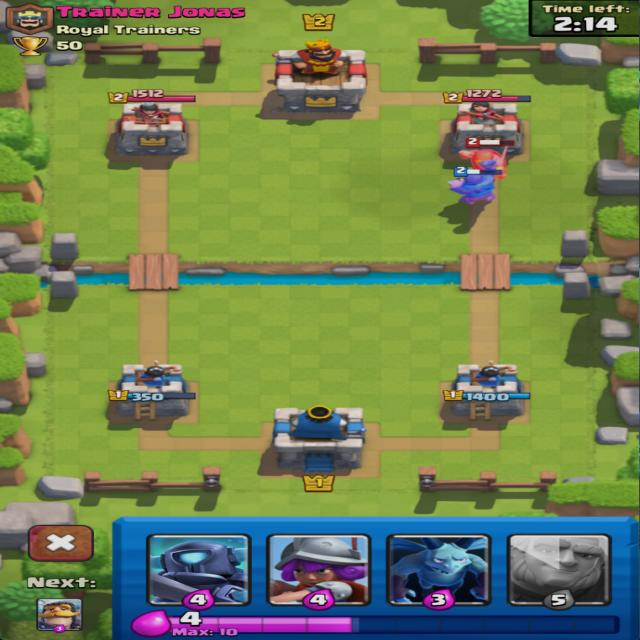Enemy_Knight_Troop: (458, 147, 512, 171)
Giant_Loading: (506, 533, 612, 611)
Knight_Next: (26, 576, 98, 634)
Knight_Troop: (450, 175, 502, 207)
Mini_Pekka_Card: (148, 534, 253, 610)
Minions_Card: (385, 534, 493, 610)
Musketeer_Card: (267, 535, 373, 611)
